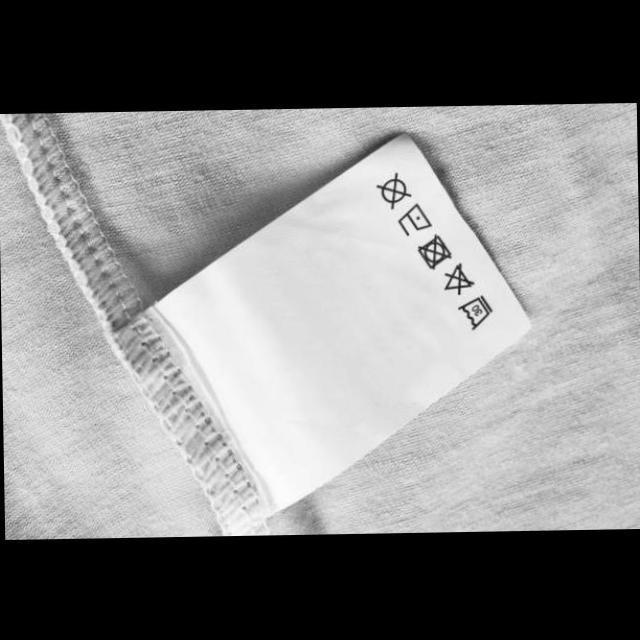30C: (456, 291, 494, 334)
DN_bleach: (440, 260, 475, 297)
DN_dry_clean: (372, 169, 412, 210)
DN_tumble_dry: (412, 229, 453, 271)
iron_low: (392, 198, 433, 239)
